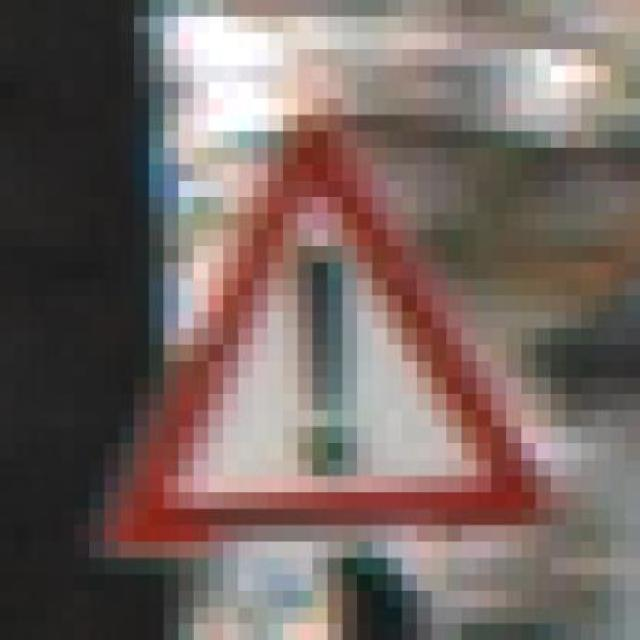Attention Please-: (45, 82, 580, 575)
